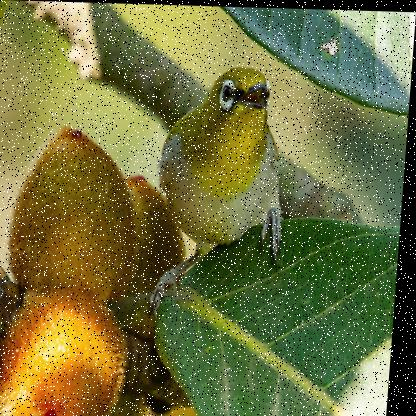Burung: (154, 64, 295, 320)
